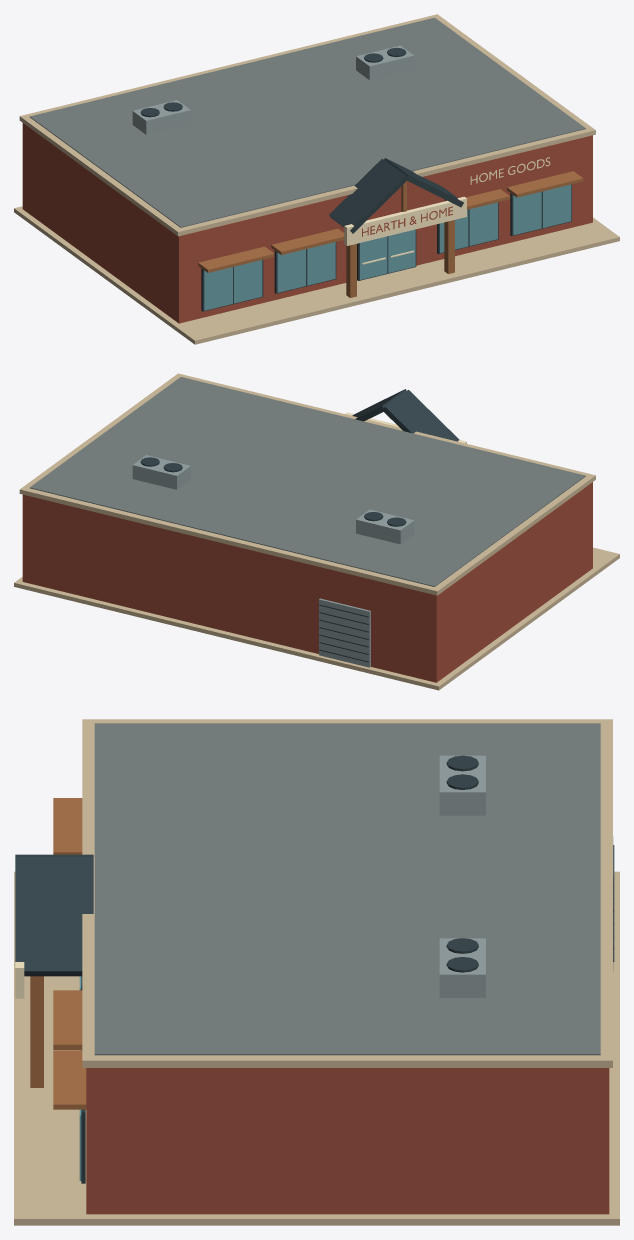
The model's file is hearth_and_home.glb.
3 renders of one model, top to bottom at view 1: azimuth 30°, elevation 25°; view 2: azimuth 150°, elevation 25°; view 3: azimuth 270°, elevation 25°, orthographic. The views are drawn at different scales.
Visible parts, largest first — view 1: hearth_and_home; view 2: hearth_and_home; view 3: hearth_and_home.
Boxes of the visible parts, x1,y1,x2,y2 form: hearth_and_home: [14, 14, 619, 344]; hearth_and_home: [14, 373, 619, 690]; hearth_and_home: [14, 719, 619, 1225].
Size of the model in its own units: 26.7 by 7.04 by 19.7.
